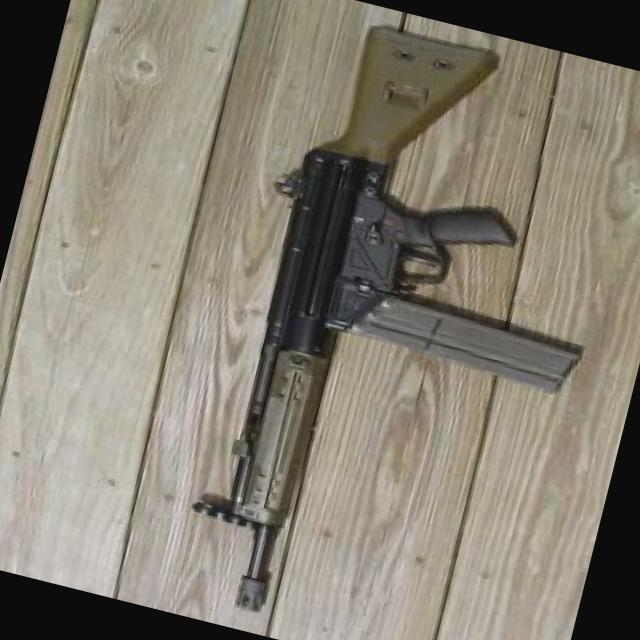long weapon: (123, 0, 606, 639)
